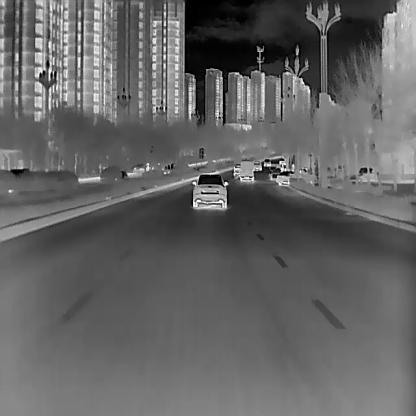car: (192, 171, 228, 209), (275, 168, 302, 184), (239, 159, 254, 181), (233, 162, 241, 175), (253, 159, 261, 171), (263, 158, 271, 167)
